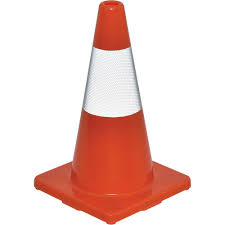cones: (35, 1, 194, 222)
